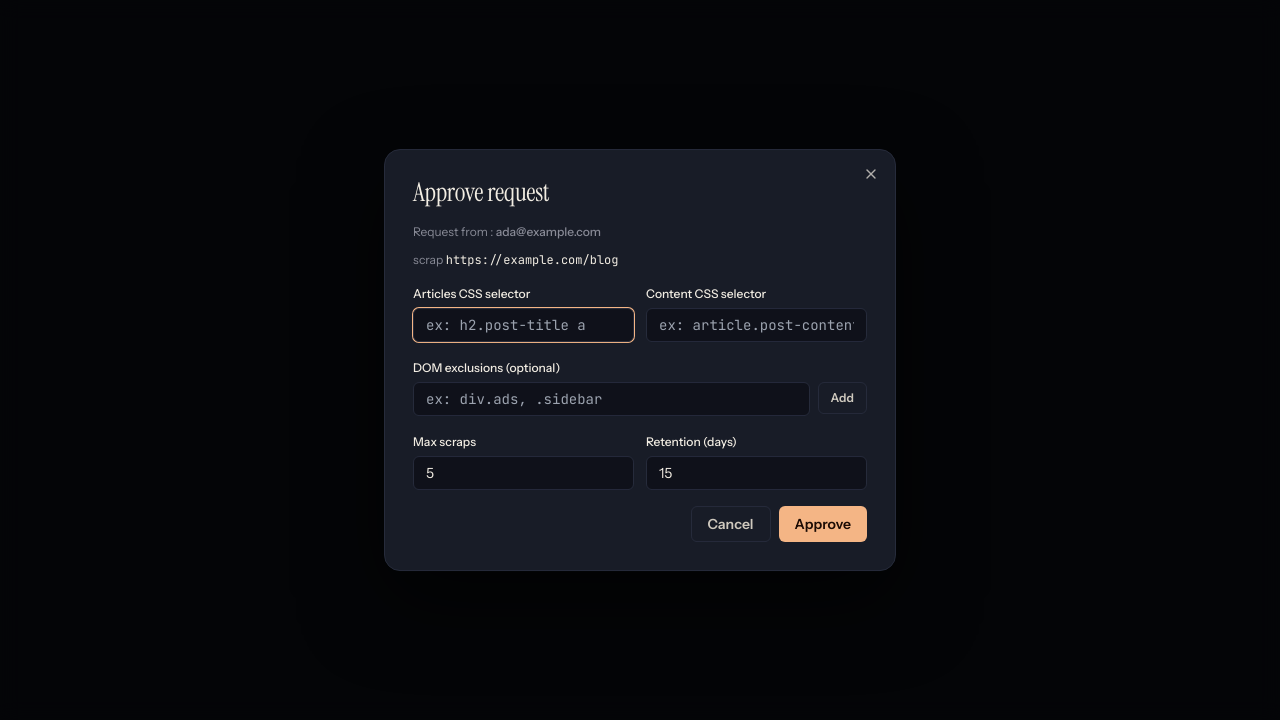
it: ScrapConfigFields (via the approve dialog) › adds an exclusion with the Enter key
In the field with placeholder "ex: div.ads, .sidebar": (611, 399) [413,382,810,416], type ".ads"
Then press Enter
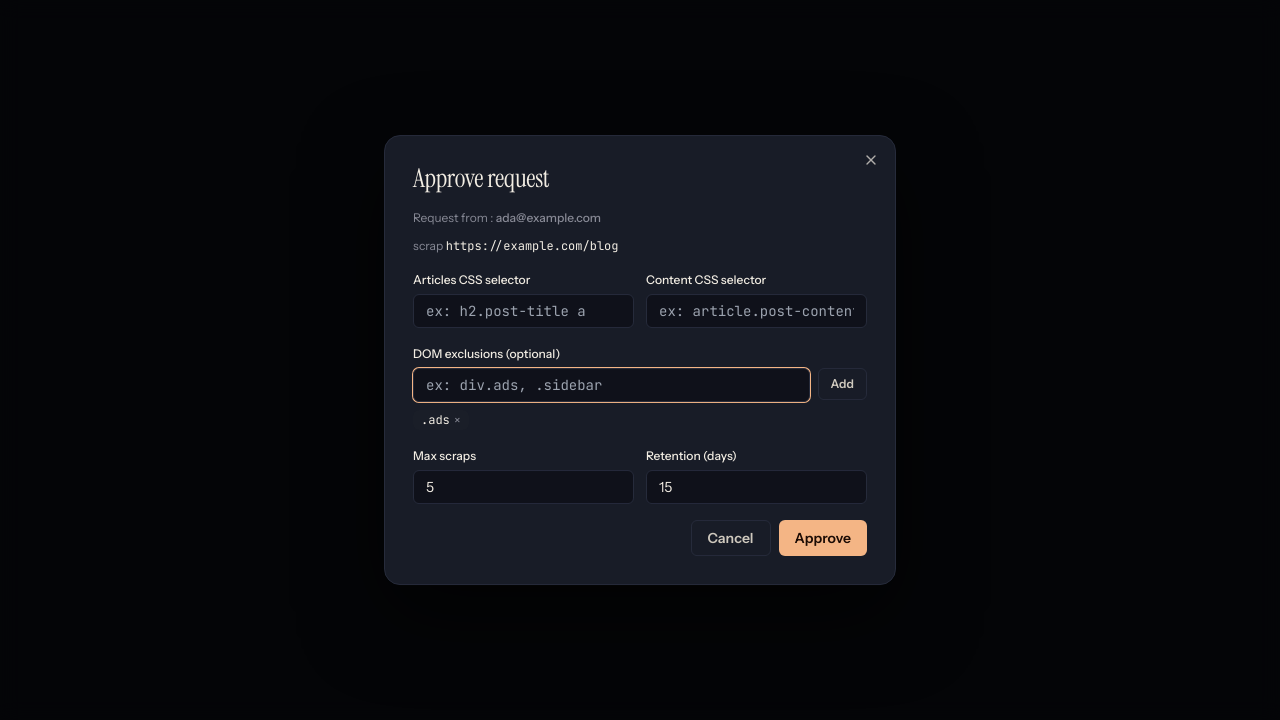
Check: the text ".ads" is shown, box [421,412,450,428]
